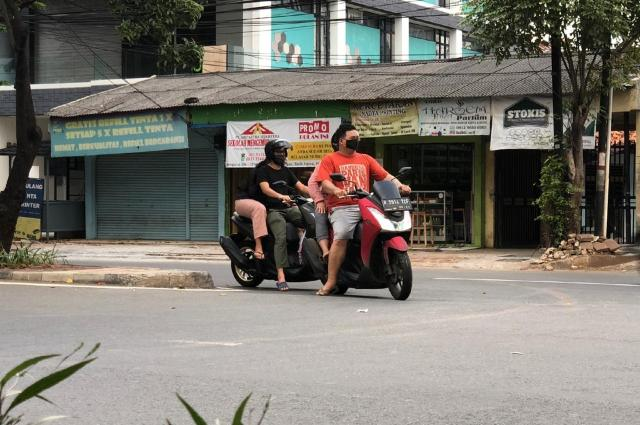helm: (264, 139, 295, 170)
motor: (317, 182, 420, 296), (222, 189, 320, 287)
non-helm: (334, 122, 363, 157)
